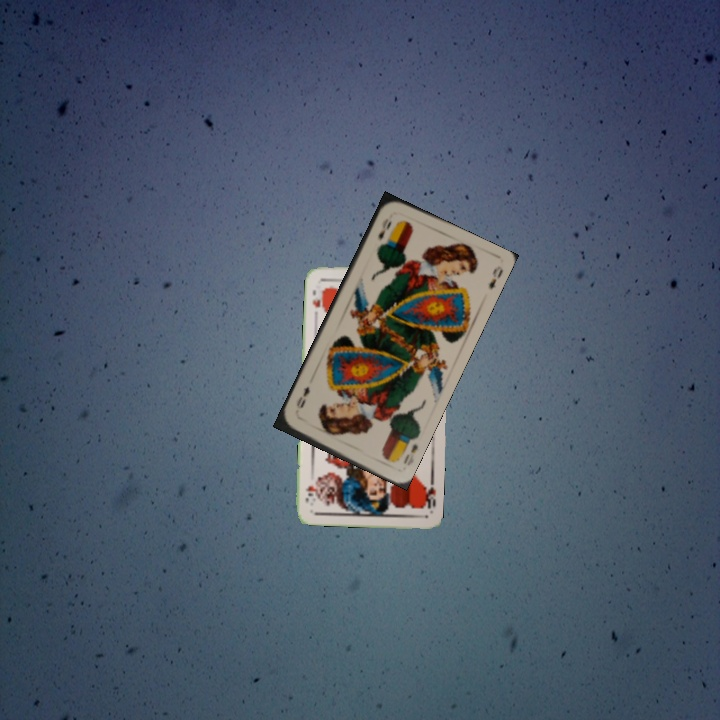EO: (399, 440, 421, 468), (374, 214, 394, 242)
HO: (309, 284, 327, 321), (419, 480, 439, 511)
